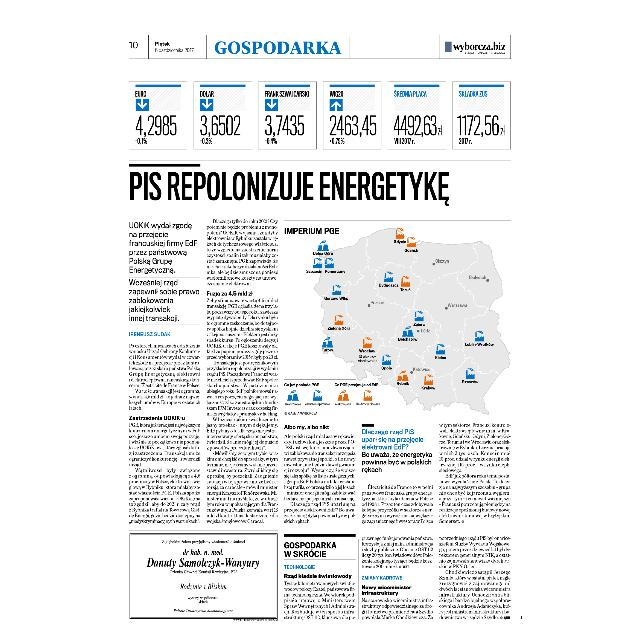article: (126, 162, 512, 526), (282, 533, 514, 623)
